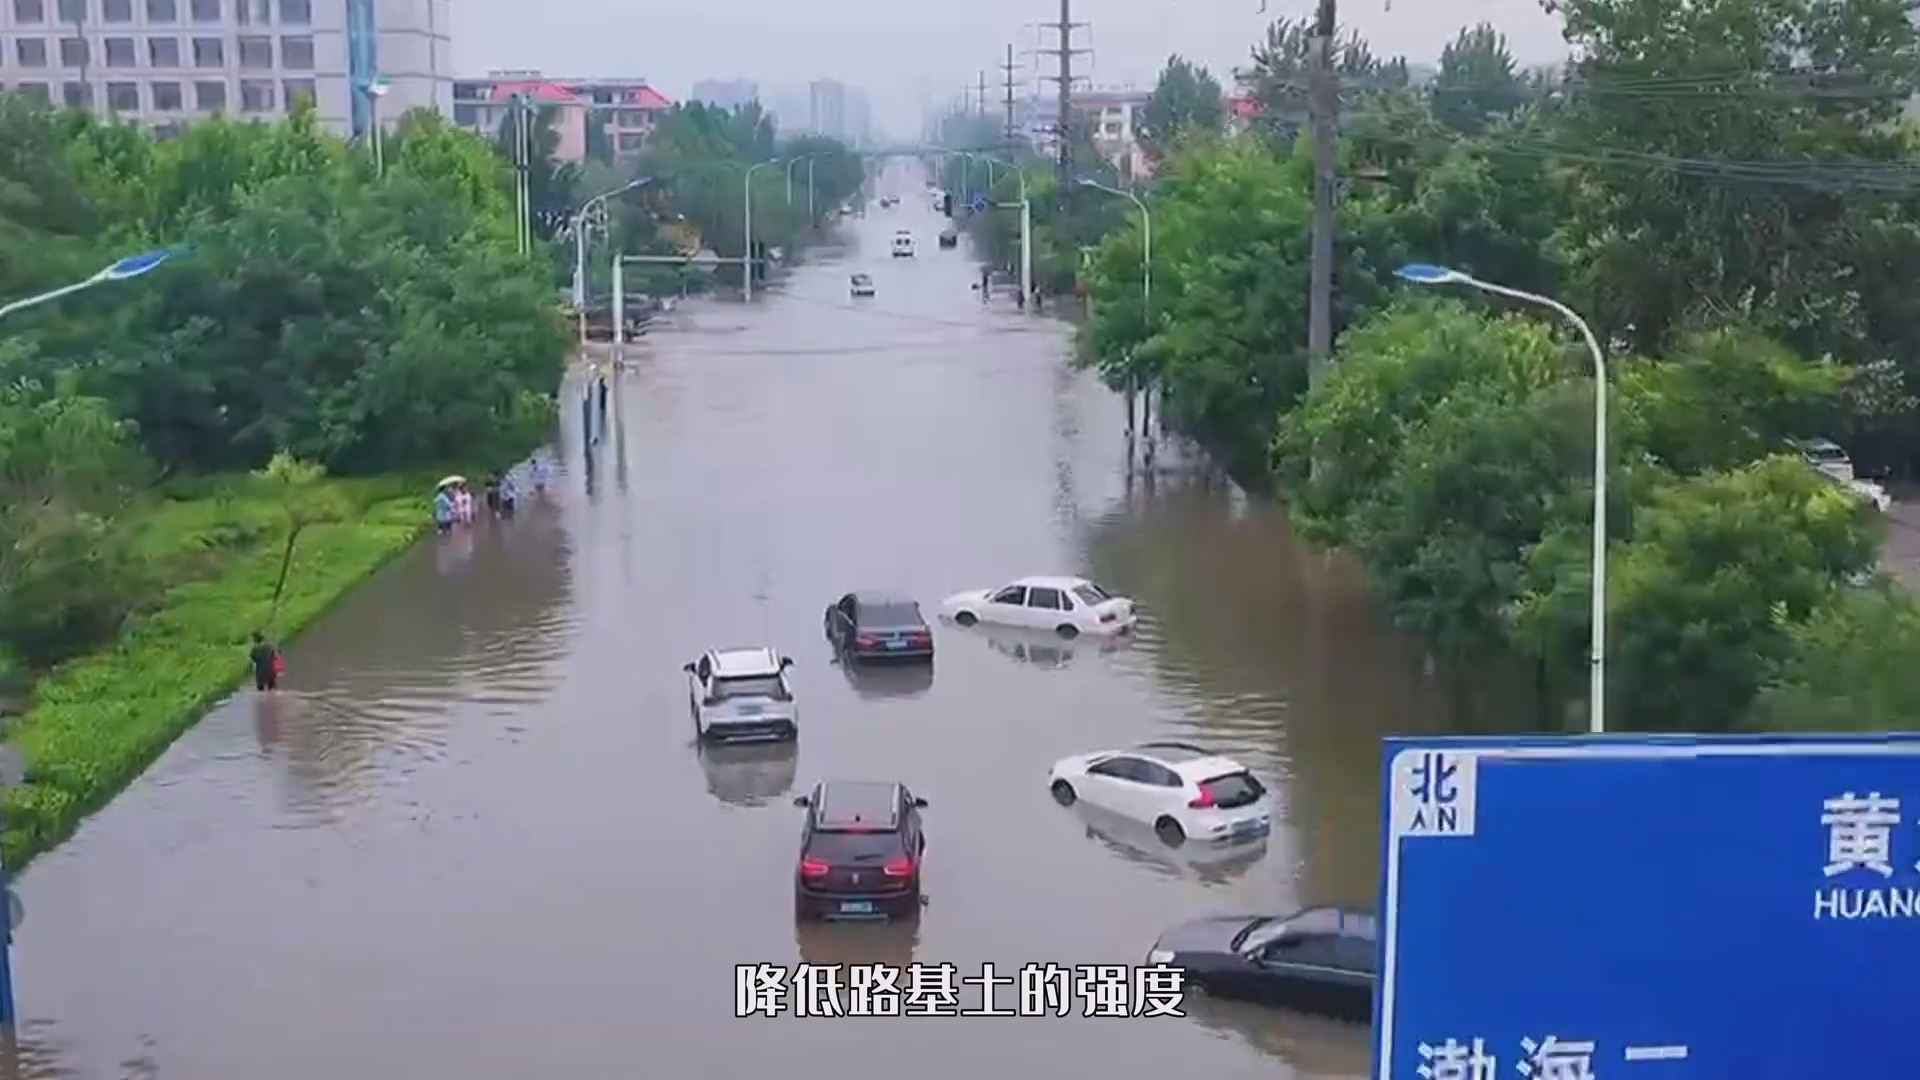puddle: (94, 353, 1393, 1080)
